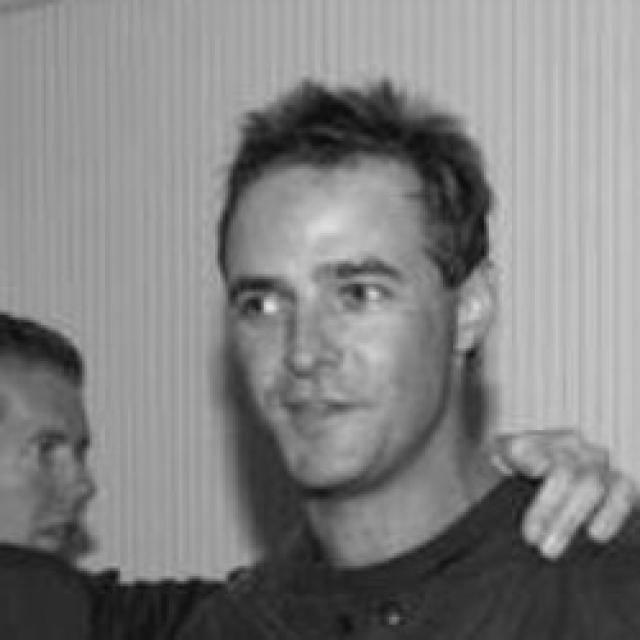real: (220, 158, 454, 490), (229, 271, 405, 329)
